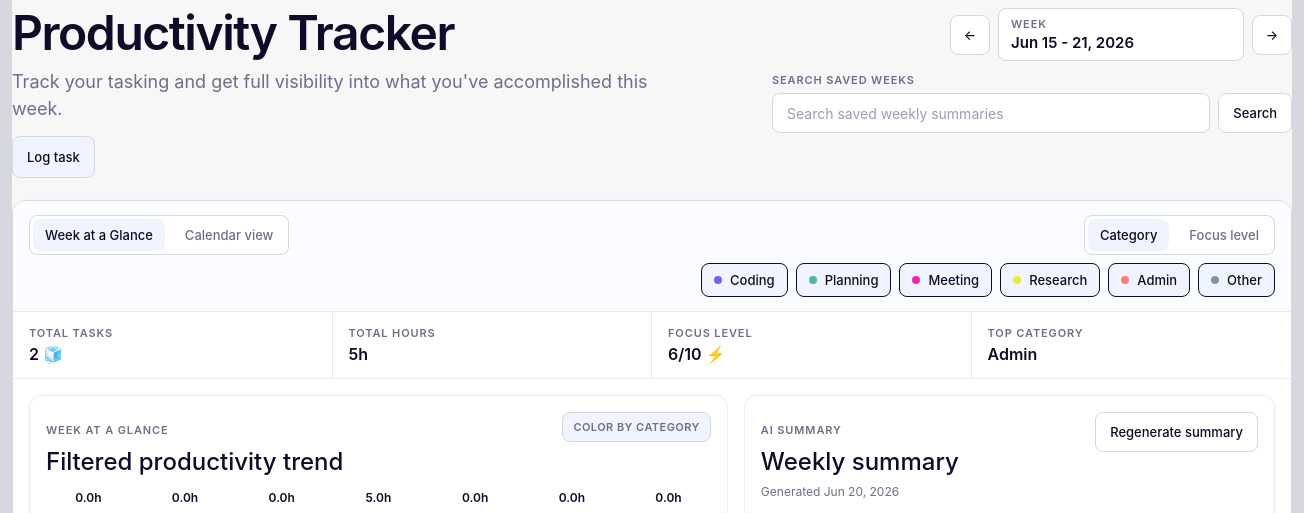
it: calendar view makes each task card open the edit flow
The image size is (1304, 513).
Check: the heading "Filtered productivity trend" is shown, box [46,448,343,476]
Click the button "Calendar view". click: [229, 235]
box: [173,219,285,251]
(page scrolled)
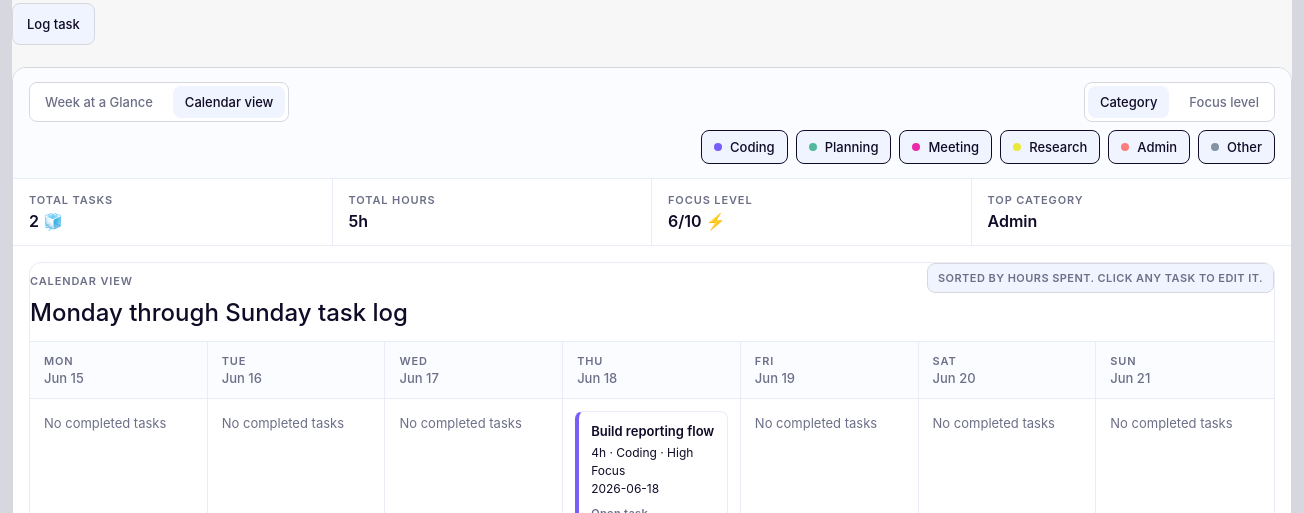
Check: the text "Build reporting flow" is shown, box [591,422,717,440]
